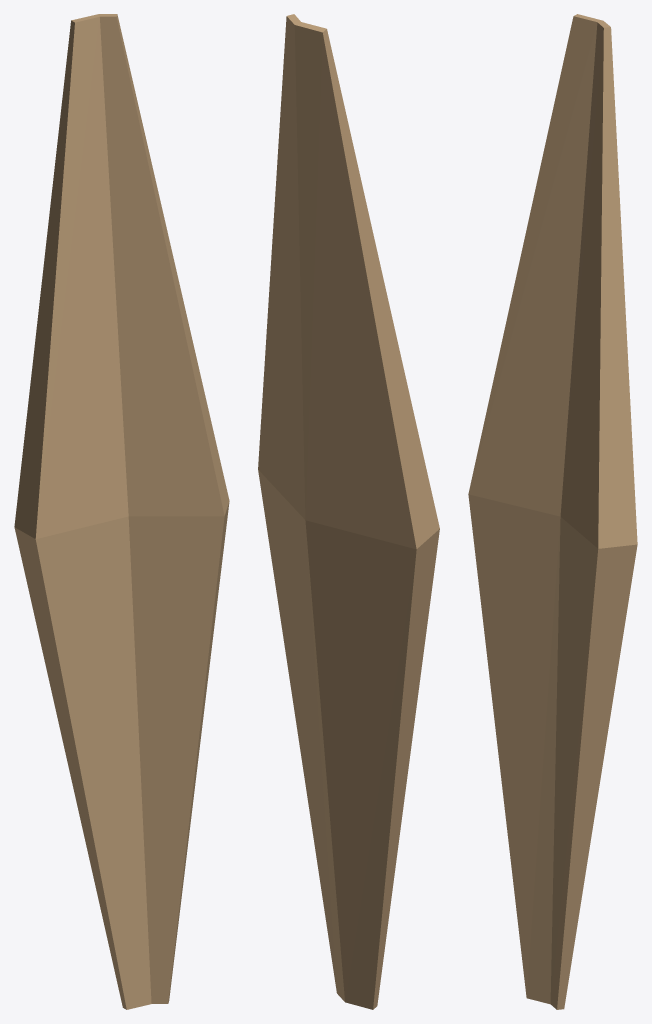
The model's file is Vegetation_Modular_Rush_Frond_Cattail_Pod_02.fbx.
The picture shows the model from 3 angles, left to right: view 1: azimuth 30°, elevation 25°; view 2: azimuth 150°, elevation 25°; view 3: azimuth 330°, elevation 25°; orthographic projection. The views are drawn at different scales.
Visible parts, largest first — view 1: Vegetation_Modular_Rush_Frond_Cattail_Pod_02; view 2: Vegetation_Modular_Rush_Frond_Cattail_Pod_02; view 3: Vegetation_Modular_Rush_Frond_Cattail_Pod_02.
Part boxes in pixels (bbox=[...]): Vegetation_Modular_Rush_Frond_Cattail_Pod_02: bbox=[14, 14, 229, 1009]; Vegetation_Modular_Rush_Frond_Cattail_Pod_02: bbox=[258, 14, 439, 1009]; Vegetation_Modular_Rush_Frond_Cattail_Pod_02: bbox=[468, 14, 637, 1009].
Size of the model in its own units: 4.29 by 21.48 by 2.71.
